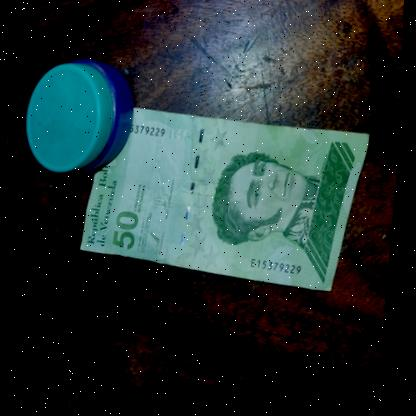fifty-front-vef: (70, 74, 387, 333)
